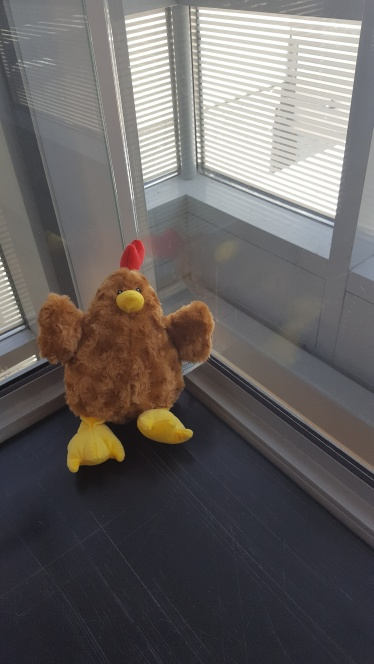chicken_front: (35, 240, 216, 471)
